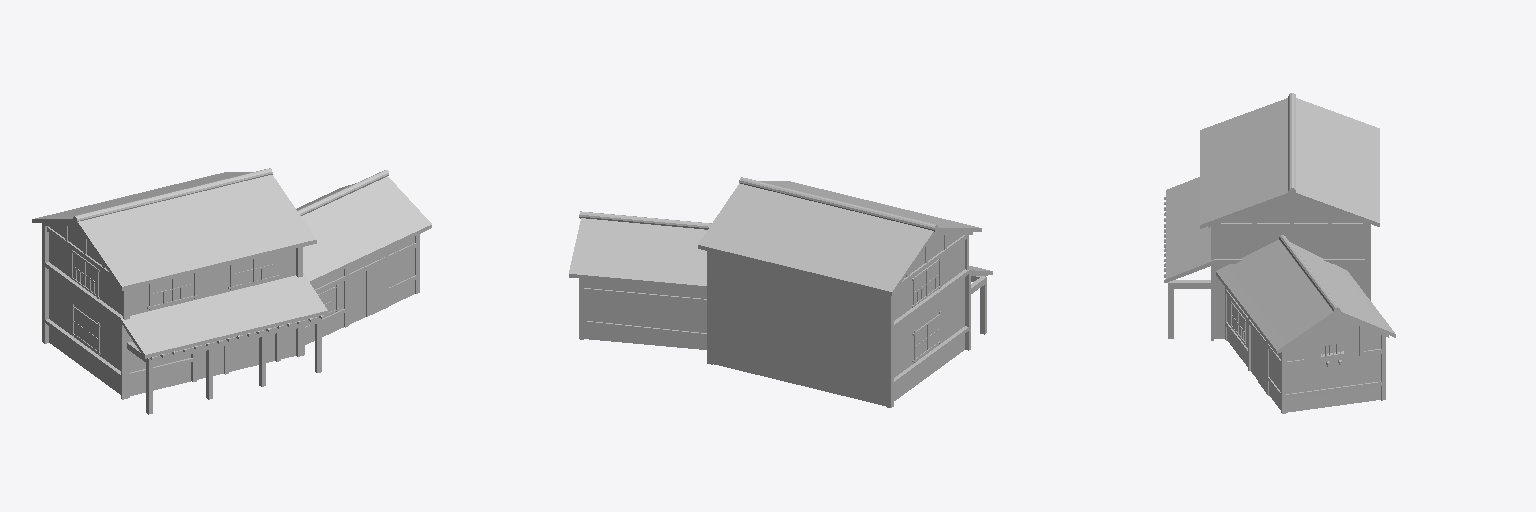
The model's file is Japanese_country_house_5_obj.obj.
The picture shows the model from 3 angles: view 1: azimuth 30°, elevation 25°; view 2: azimuth 150°, elevation 25°; view 3: azimuth 270°, elevation 25°; orthographic projection.
Parts seen in each view (by area): view 1: Cube.003_Cube.004; view 2: Cube.003_Cube.004; view 3: Cube.003_Cube.004.
Part boxes in pixels (x1,y1,x2,y2): Cube.003_Cube.004: (32, 168, 431, 414); Cube.003_Cube.004: (569, 177, 992, 407); Cube.003_Cube.004: (1164, 93, 1395, 413).
Size of the model in its own units: 7.79 by 3.32 by 4.49.